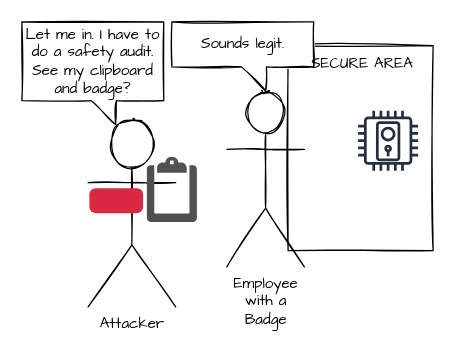
Some shapes in this 455 by 355 pixel diagram are drawn without their labels. Here are the shapes that lost their labels. From the top down, the centre of each, then its label:
At point (387, 140): "Badge Reader".
At point (115, 200): "Safety".
